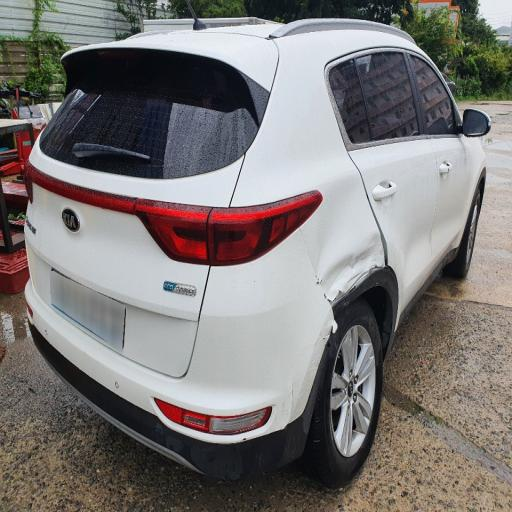dent: (318, 208, 392, 288)
